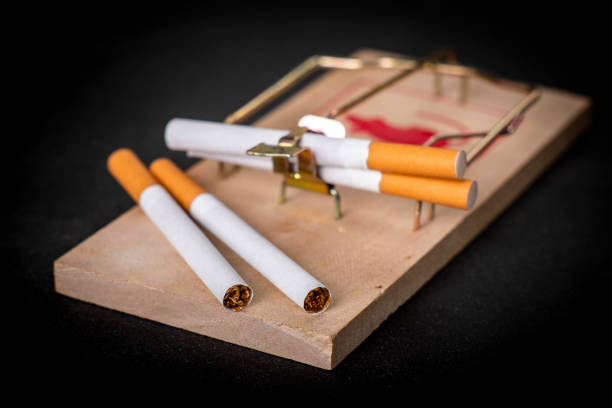cigarette: (150, 144, 328, 315), (106, 147, 253, 310), (167, 114, 475, 181), (186, 152, 479, 212)
